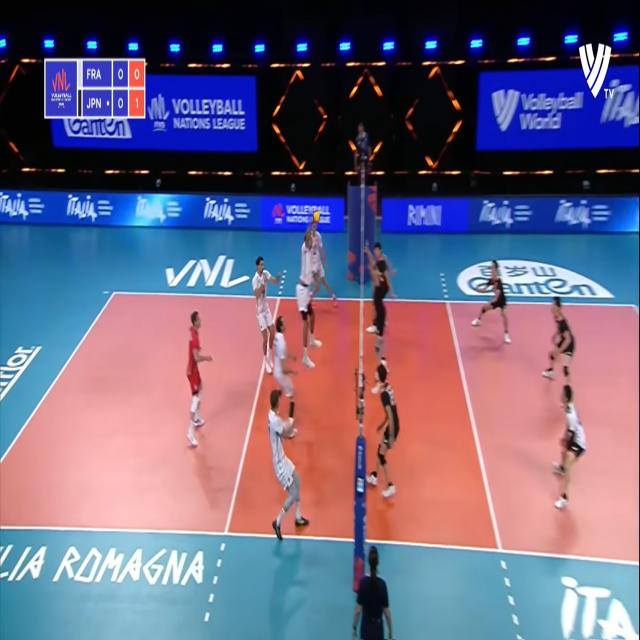player: (265, 384, 313, 539), (549, 382, 589, 507), (469, 250, 515, 346), (368, 362, 400, 498), (251, 251, 284, 376), (183, 306, 210, 453), (272, 317, 302, 428), (546, 295, 578, 397), (297, 230, 319, 367), (306, 218, 332, 298), (369, 232, 391, 311), (372, 264, 387, 367)
